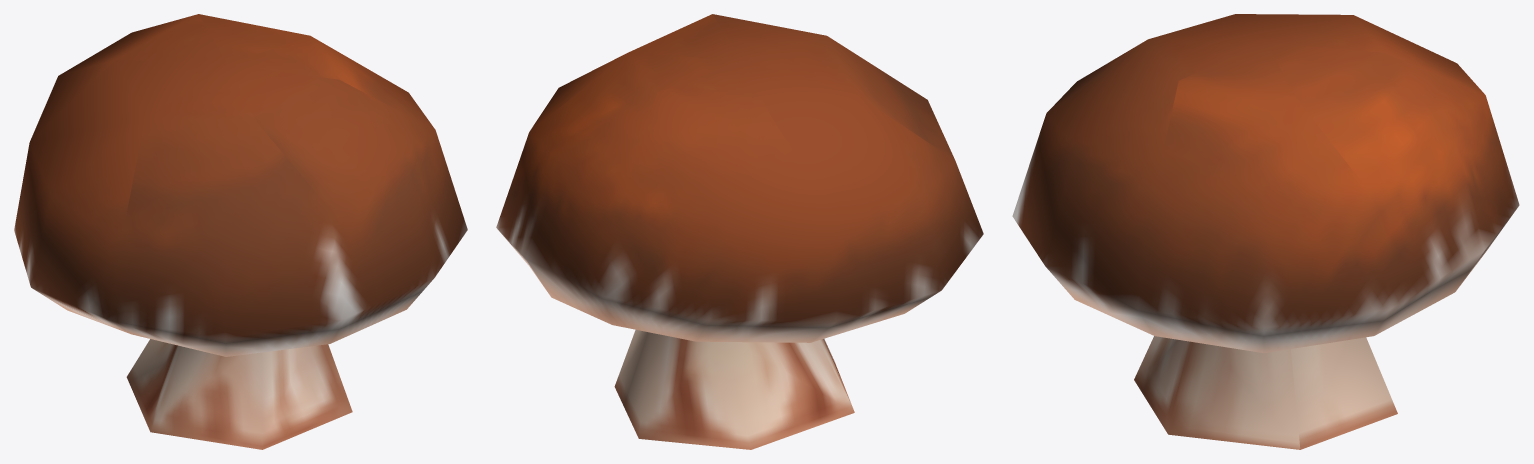
File: SM_PROP_food_mushroom_02.FBX
3 views of the same model, side by side, from view 1: azimuth 30°, elevation 25°; view 2: azimuth 150°, elevation 25°; view 3: azimuth 270°, elevation 25° (orthographic). The views are drawn at different scales.
Visible parts, largest first — view 1: SM_PROP_food_mushroom_02; view 2: SM_PROP_food_mushroom_02; view 3: SM_PROP_food_mushroom_02.
Boxes of the visible parts, x1,y1,x2,y2 form: SM_PROP_food_mushroom_02: (14, 14, 467, 449); SM_PROP_food_mushroom_02: (496, 14, 983, 449); SM_PROP_food_mushroom_02: (1012, 14, 1519, 449).
Bounding box in the file's own units: 12.3 × 12.66 × 9.78.
